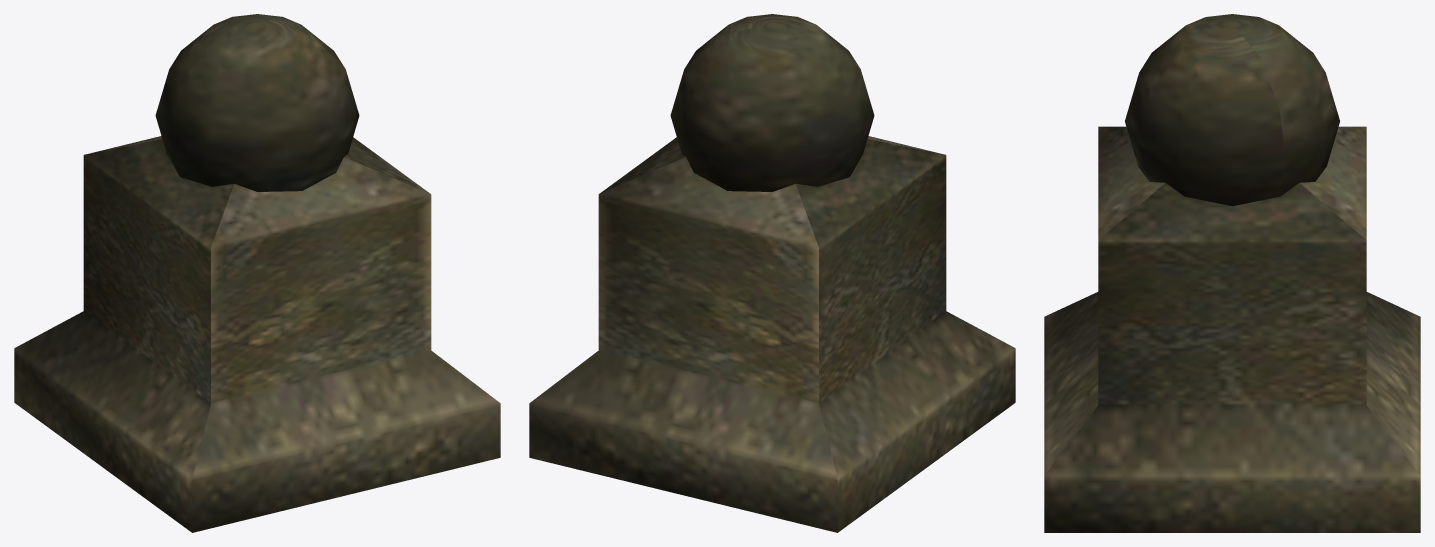
The model's file is stst39.dae.
The picture shows the model from 3 angles, left to right: view 1: azimuth 30°, elevation 25°; view 2: azimuth 150°, elevation 25°; view 3: azimuth 270°, elevation 25°; orthographic projection. The views are drawn at different scales.
Visible parts, largest first — view 1: cemcol1; view 2: cemcol1; view 3: cemcol1.
Part boxes in pixels (<box>): cemcol1: <box>14,14,500,532</box>; cemcol1: <box>529,14,1015,532</box>; cemcol1: <box>1044,14,1420,532</box>.
Bounding box in the file's own units: 0.4828 × 0.4828 × 0.6089.
Materials: 1 (1 with a texture image).
